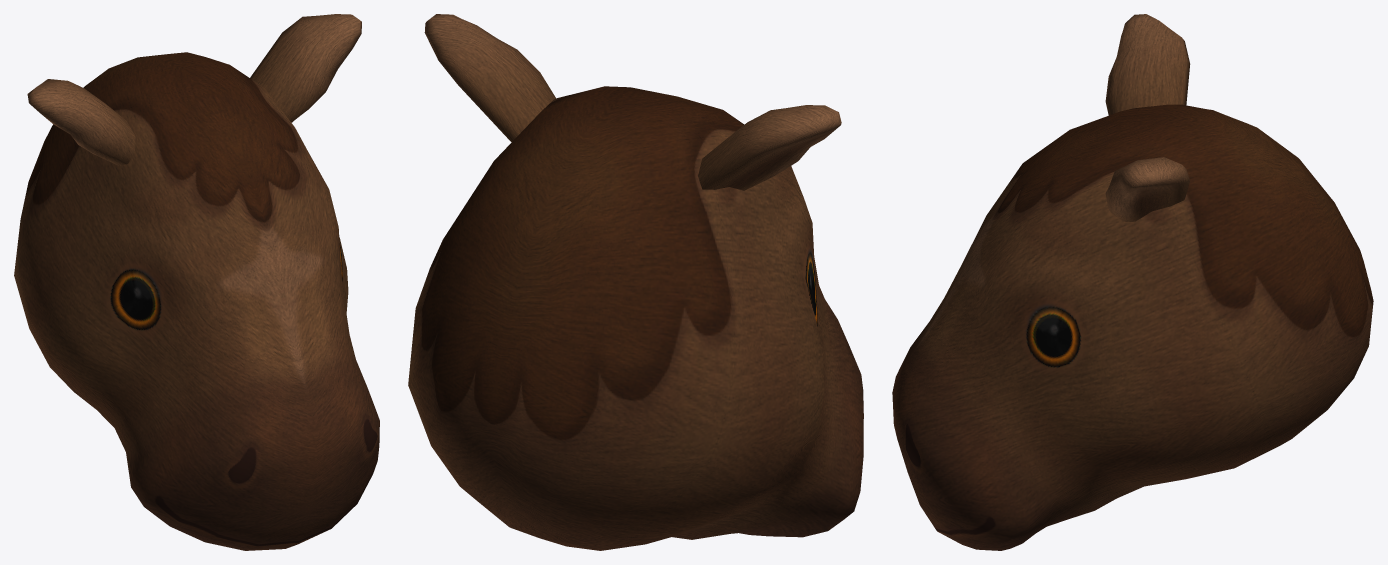
The model's file is CRT0110015.FBX.
The picture shows the model from 3 angles, left to right: view 1: azimuth 30°, elevation 25°; view 2: azimuth 150°, elevation 25°; view 3: azimuth 270°, elevation 25°; orthographic projection. The views are drawn at different scales.
Parts seen in each view (by area): view 1: smCRT0110015; view 2: smCRT0110015; view 3: smCRT0110015.
Part boxes in pixels (x1,y1,x2,y2): smCRT0110015: (14, 14, 379, 550); smCRT0110015: (408, 14, 863, 550); smCRT0110015: (892, 14, 1373, 550).
Bounding box in the file's own units: 0.1344 × 0.1656 × 0.1642.
1 material, 1 textured.
